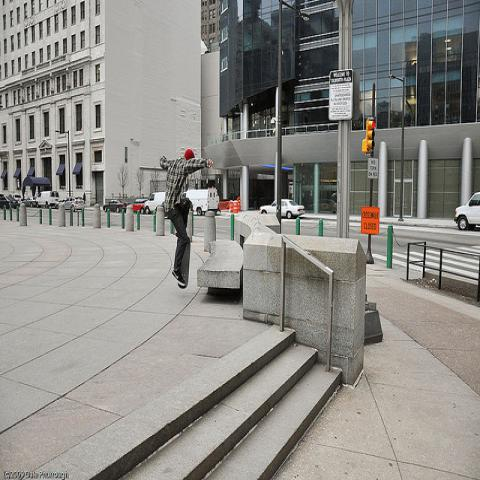car: (259, 198, 306, 220), (454, 191, 479, 230), (102, 198, 132, 213), (36, 190, 59, 209), (65, 196, 85, 211), (0, 193, 18, 209), (7, 193, 22, 207), (132, 201, 145, 215), (22, 196, 36, 208)
truck: (181, 186, 220, 216), (143, 192, 167, 215)
